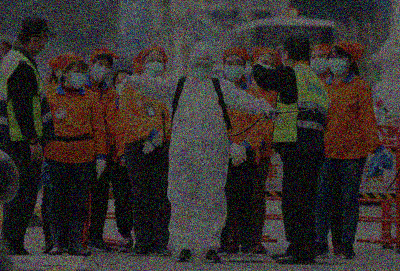with_mask: (223, 60, 245, 83), (327, 53, 348, 76), (143, 57, 165, 78), (91, 60, 111, 83), (190, 59, 211, 80), (308, 53, 328, 75), (67, 68, 87, 90), (36, 35, 49, 59), (280, 51, 288, 68)
